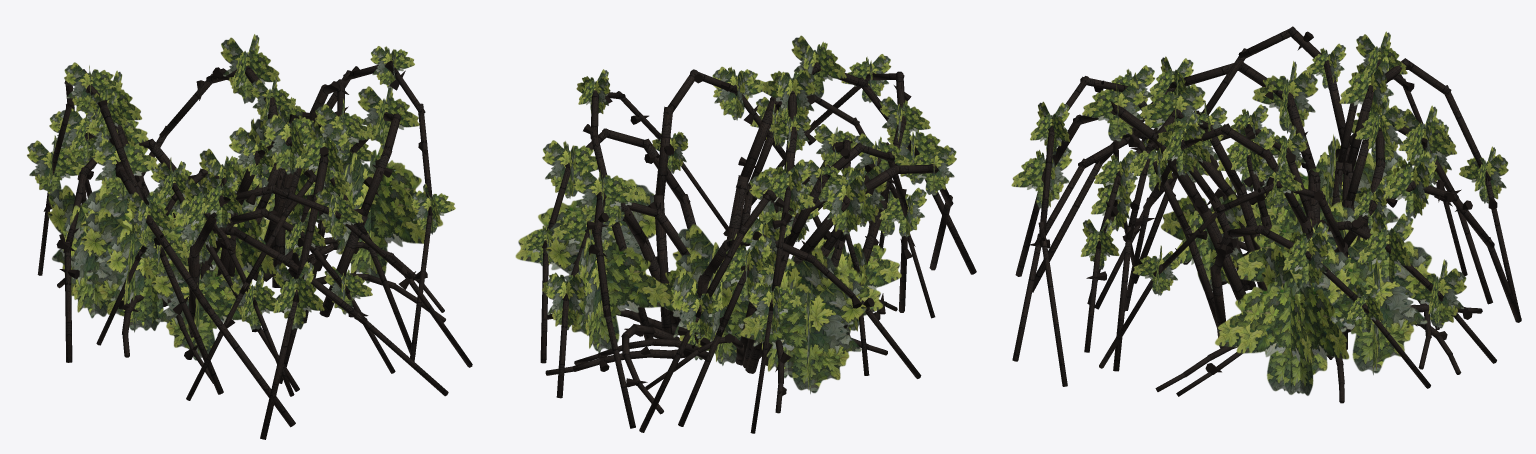
File: prop_bramble_patch.glb
The picture shows the model from 3 angles, left to right: view 1: azimuth 30°, elevation 25°; view 2: azimuth 150°, elevation 25°; view 3: azimuth 270°, elevation 25°; orthographic projection. The views are drawn at different scales.
Parts seen in each view (by area): view 1: core_leaf_4, core_leaf_8, core_leaf_2, core_leaf_7, core_leaf_1, cane_14_leaf0, cane_13_leaf0, cane_0_leaf0, cane_4_leaf1, core_leaf_5, cane_12_leaf0, cane_0_leaf1 (+54 smaller); view 2: core_leaf_7, core_leaf_3, core_leaf_0, core_leaf_10, cane_13_leaf0, core_leaf_2, cane_12_leaf0, core_leaf_6, cane_16_leaf1, cane_14_leaf0, cane_4_leaf1, cane_10_leaf0 (+54 smaller); view 3: core_leaf_9, core_leaf_3, core_leaf_4, core_leaf_2, cane_16_leaf0, cane_4_leaf1, core_leaf_5, cane_16_leaf1, cane_13_leaf0, cane_0_leaf1, cane_12_leaf0, cane_0_leaf0 (+60 smaller).
Part boxes in pixels (box(x1,y1,x2,y2)): core_leaf_4: box(334, 151, 429, 283); core_leaf_8: box(81, 208, 188, 332); core_leaf_2: box(151, 260, 241, 360); core_leaf_7: box(47, 185, 154, 318); core_leaf_1: box(106, 212, 181, 330); cane_14_leaf0: box(263, 104, 323, 174); cane_13_leaf0: box(220, 34, 280, 103); cane_0_leaf0: box(273, 261, 324, 329); cane_4_leaf1: box(92, 129, 158, 201); core_leaf_5: box(198, 175, 275, 284); cane_12_leaf0: box(358, 86, 419, 149); cane_0_leaf1: box(295, 121, 348, 187); core_leaf_7: box(740, 274, 866, 393); core_leaf_3: box(545, 221, 670, 352); core_leaf_0: box(753, 248, 839, 378); core_leaf_10: box(675, 250, 748, 365); cane_13_leaf0: box(573, 168, 637, 226); core_leaf_2: box(814, 237, 901, 333); cane_12_leaf0: box(542, 140, 598, 198); core_leaf_6: box(662, 267, 734, 360); cane_16_leaf1: box(542, 272, 592, 329); cane_14_leaf0: box(762, 69, 816, 118); cane_4_leaf1: box(827, 175, 871, 235); cane_10_leaf0: box(748, 282, 801, 335); core_leaf_9: box(1236, 245, 1351, 395); core_leaf_3: box(1332, 241, 1431, 374); core_leaf_4: box(1215, 257, 1341, 391); core_leaf_2: box(1161, 177, 1247, 291); cane_16_leaf0: box(1357, 211, 1413, 283); cane_4_leaf1: box(1252, 61, 1318, 133); core_leaf_5: box(1236, 202, 1358, 281); cane_16_leaf1: box(1409, 259, 1466, 328); cane_13_leaf0: box(1383, 151, 1437, 218); cane_0_leaf1: box(1082, 81, 1145, 141); cane_12_leaf0: box(1283, 222, 1328, 288); cane_0_leaf0: box(1011, 147, 1071, 208).
Bounding box in the file's own units: 1.22 × 0.8225 × 1.42.
97 materials, 2 textured.
